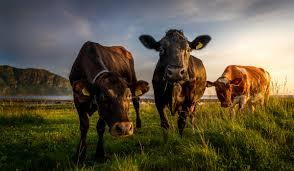cow: (68, 41, 148, 162), (137, 30, 214, 139), (206, 66, 270, 120)
